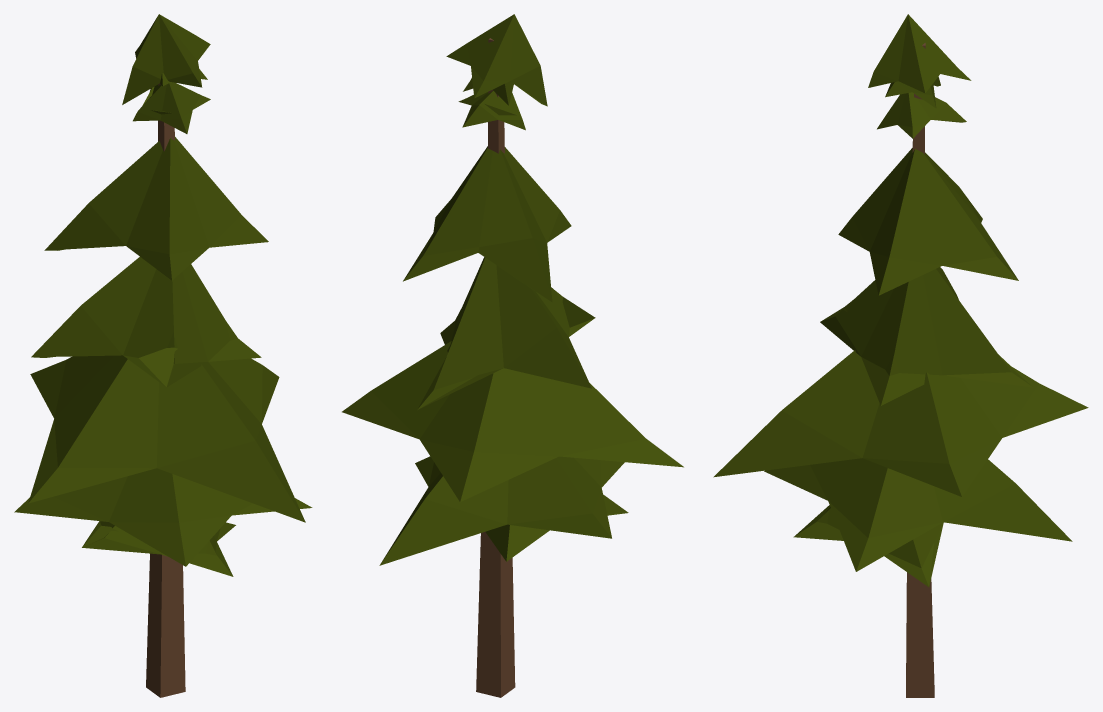
File: mesh_tree5_3.fbx
The picture shows the model from 3 angles, left to right: view 1: azimuth 30°, elevation 25°; view 2: azimuth 150°, elevation 25°; view 3: azimuth 270°, elevation 25°; orthographic projection.
Visible parts, largest first — view 1: mesh_tree5_3; view 2: mesh_tree5_3; view 3: mesh_tree5_3.
Part boxes in pixels (x1=…): mesh_tree5_3: x1=14, y1=14, x2=312, y2=697; mesh_tree5_3: x1=342, y1=14, x2=683, y2=697; mesh_tree5_3: x1=713, y1=14, x2=1088, y2=697.
Size of the model in its own units: 2.1 by 4.59 by 2.33.
